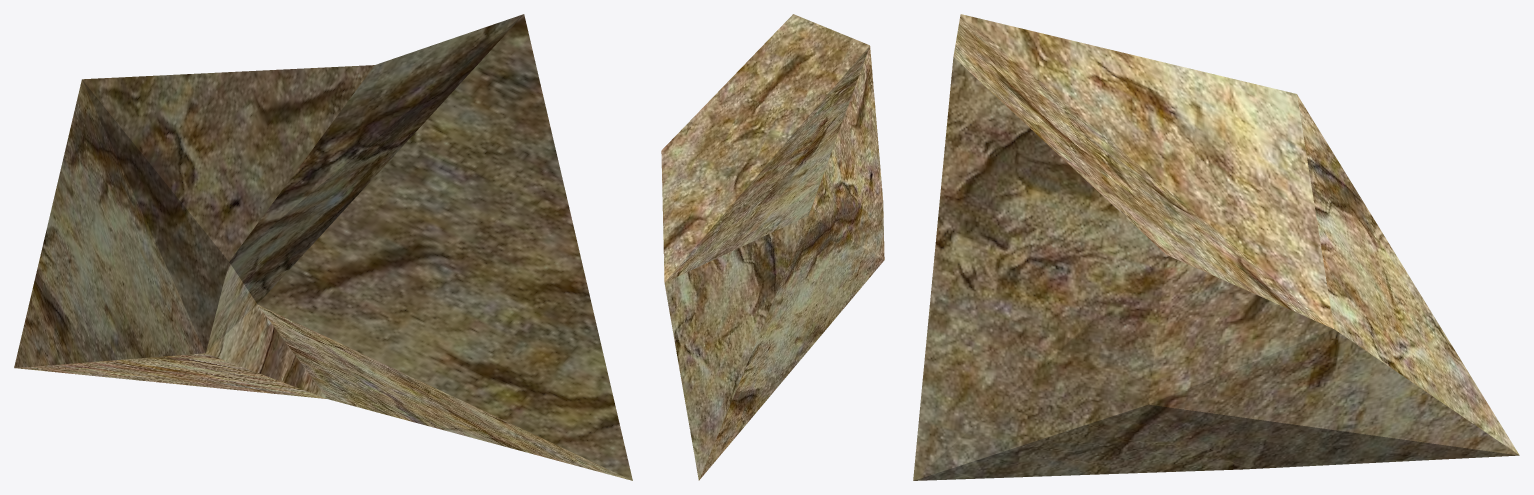
The model's file is rock18.fbx.
The picture shows the model from 3 angles, left to right: view 1: azimuth 30°, elevation 25°; view 2: azimuth 150°, elevation 25°; view 3: azimuth 270°, elevation 25°; orthographic projection. The views are drawn at different scales.
Visible parts, largest first — view 1: Rock18; view 2: Rock18; view 3: Rock18.
Part boxes in pixels (x1,y1,x2,y2): Rock18: (14,14,632,480); Rock18: (661,14,884,480); Rock18: (913,14,1519,480).
Size of the model in its own units: 9.55 by 14.45 by 17.02.
